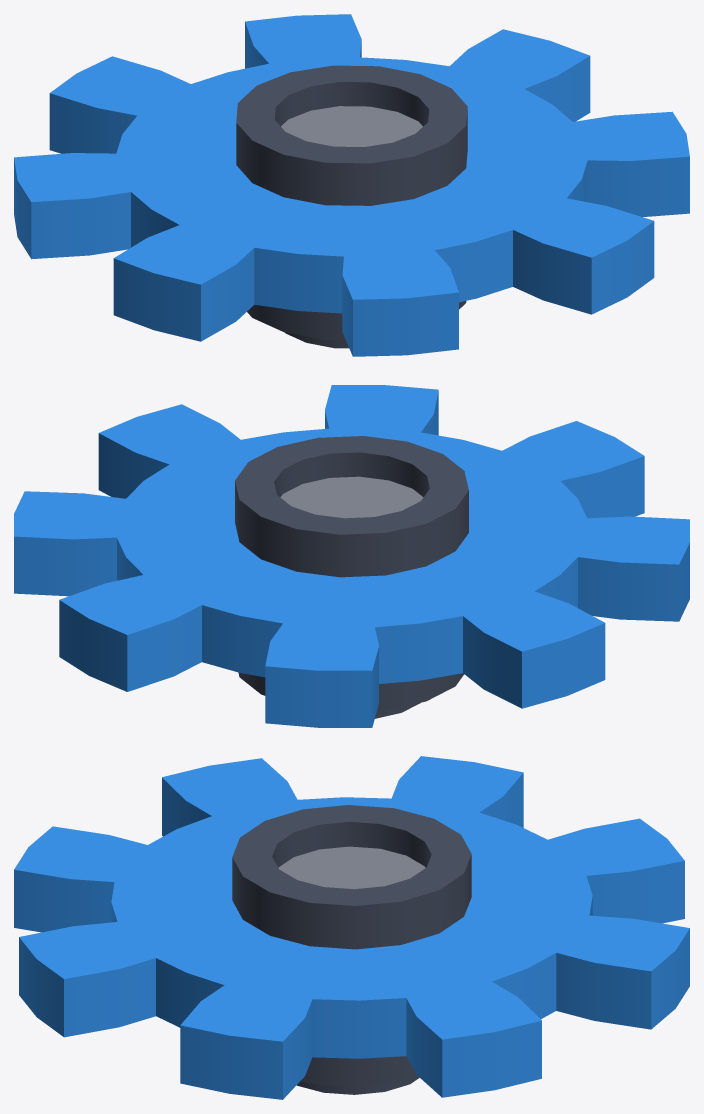
File: Gear_1.fbx
3 views of the same model, one above another, from view 1: azimuth 30°, elevation 25°; view 2: azimuth 150°, elevation 25°; view 3: azimuth 270°, elevation 25° (orthographic). The views are drawn at different scales.
Parts seen in each view (by area): view 1: Gear.001; view 2: Gear.001; view 3: Gear.001.
Boxes of the visible parts, x1,y1,x2,y2 form: Gear.001: (14,14,689,356); Gear.001: (14,385,689,727); Gear.001: (14,756,689,1099).
Bounding box in the file's own units: 44.55 × 14.96 × 44.55.
